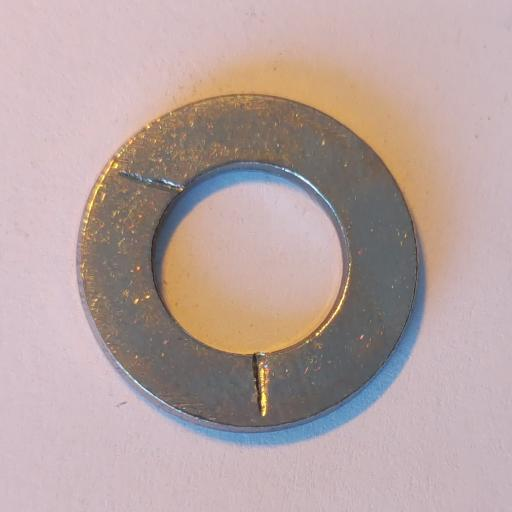scratch: (119, 173, 185, 192), (252, 352, 271, 418)
